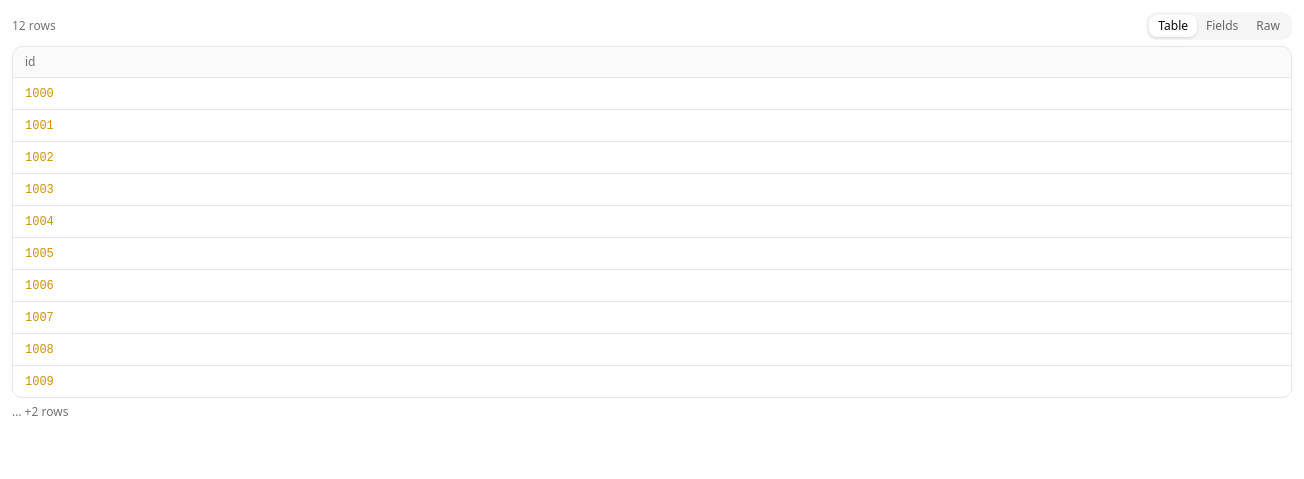
Test: cuts a long table and shows the rest on click
Expected: the text "1011" is not shown
Click the button "… +2 rows" at (40, 412), box [12,404,68,420]
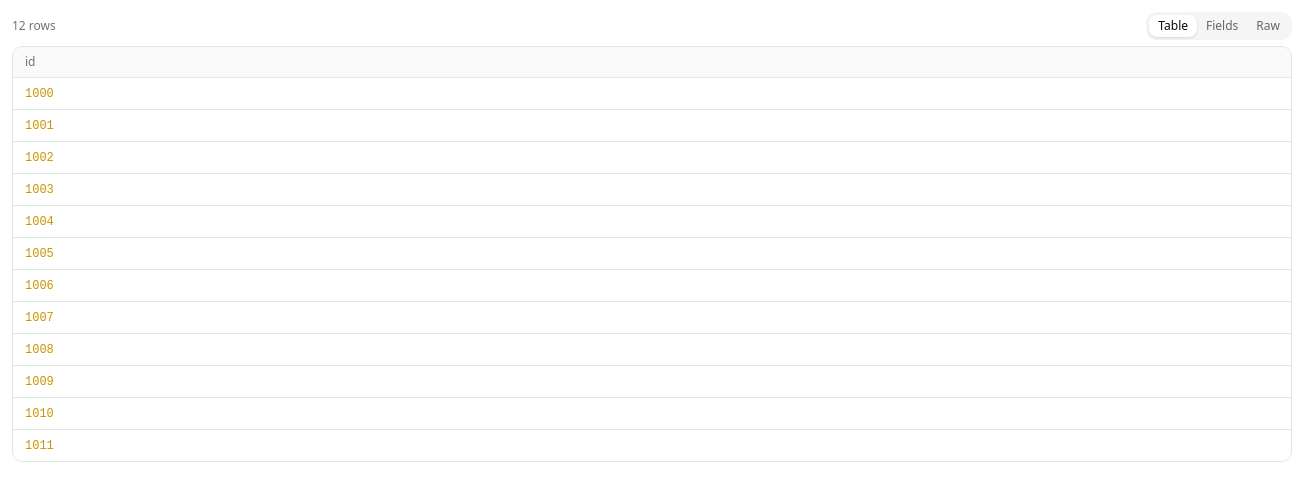
Now the text "1011" is shown, box [25,439,54,453]
